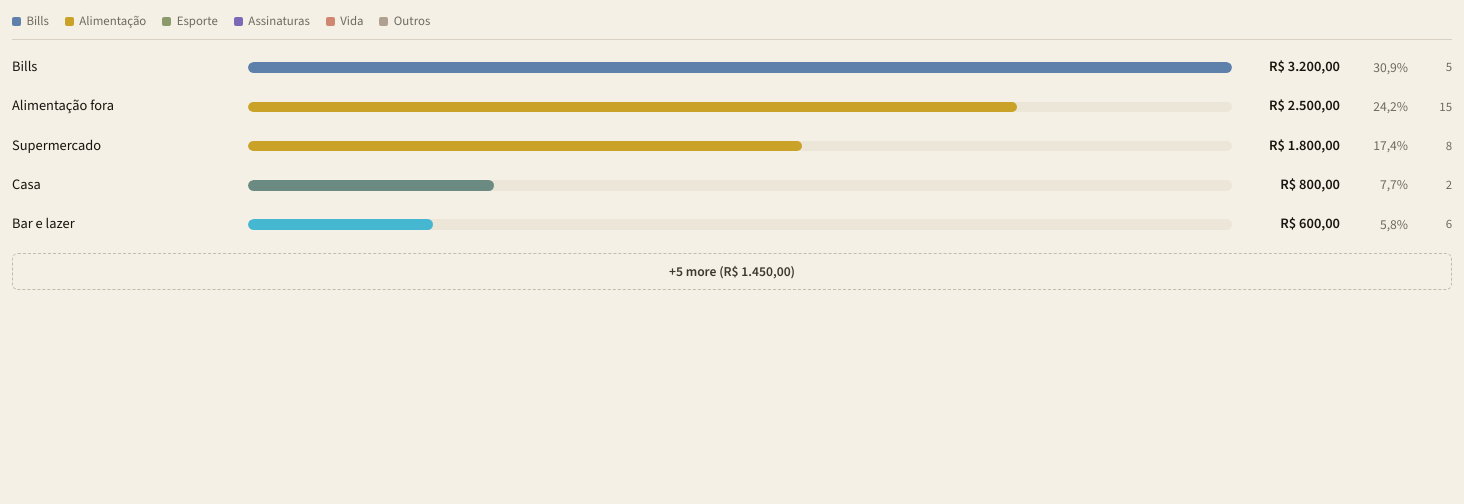
Scenario: RankedBars › expands to show all items when clicking +N more
Click the button "+5 more (R$ 1.450,00)" at (732, 271), box [12,253,1452,290]
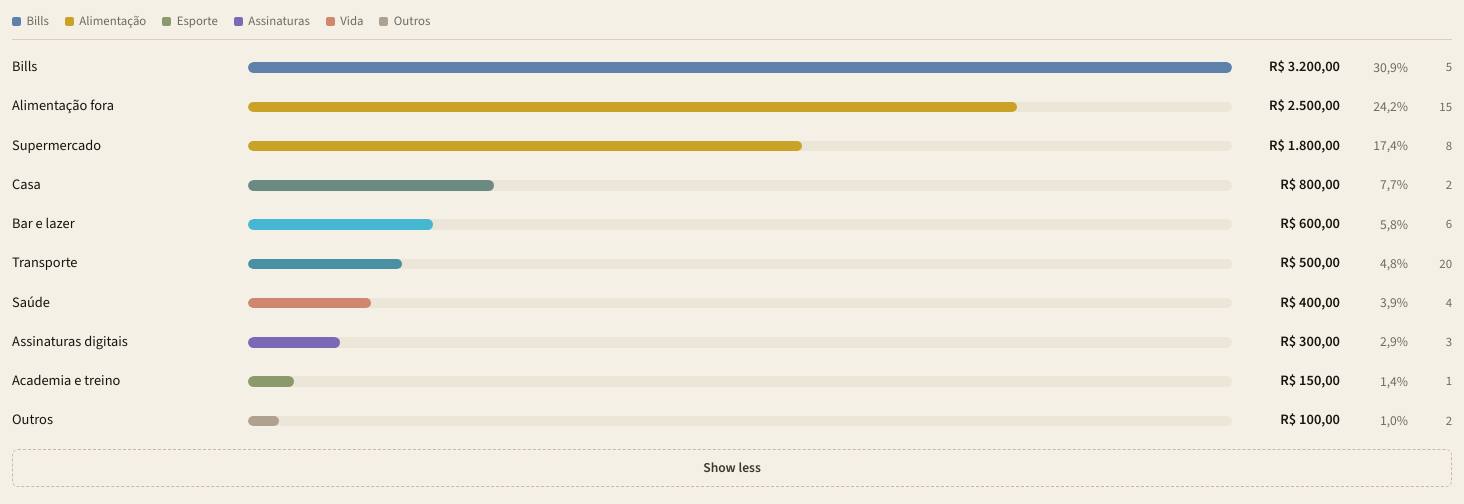
Now the number of links with class "ranked-bar-row" is 10
